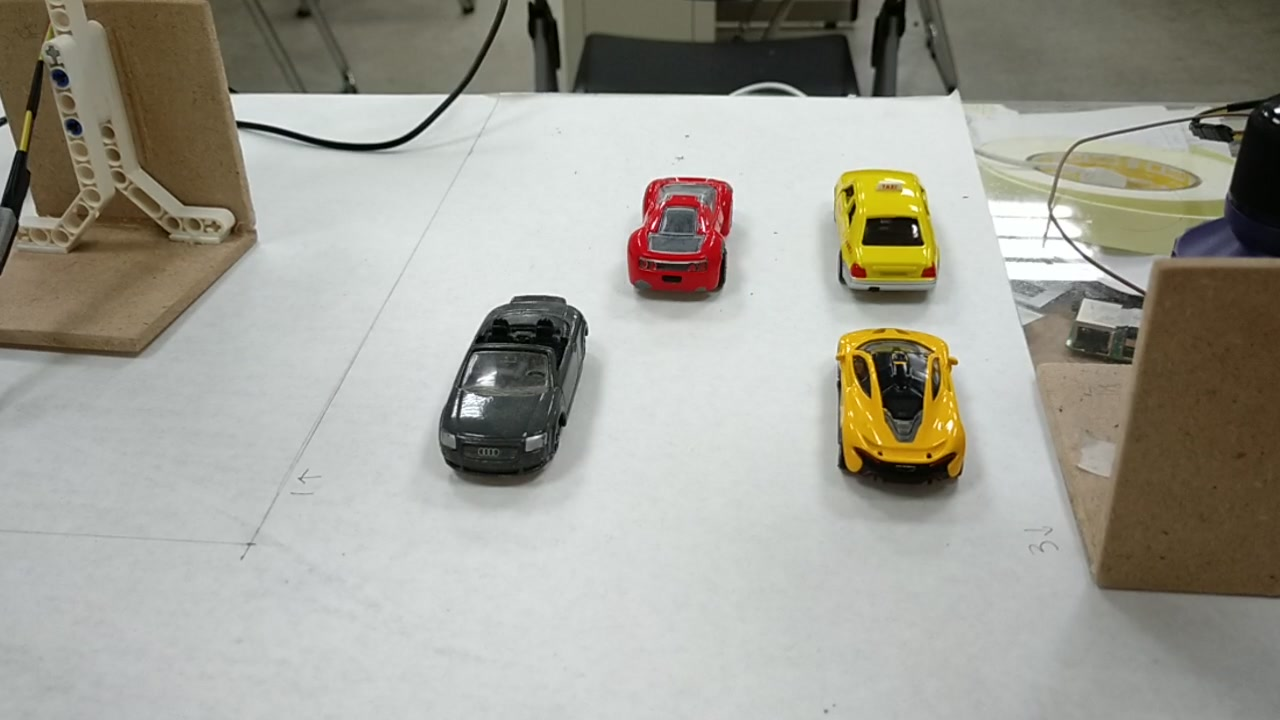car: (435, 293, 594, 471), (842, 328, 963, 479), (838, 161, 939, 293), (629, 183, 740, 283)
